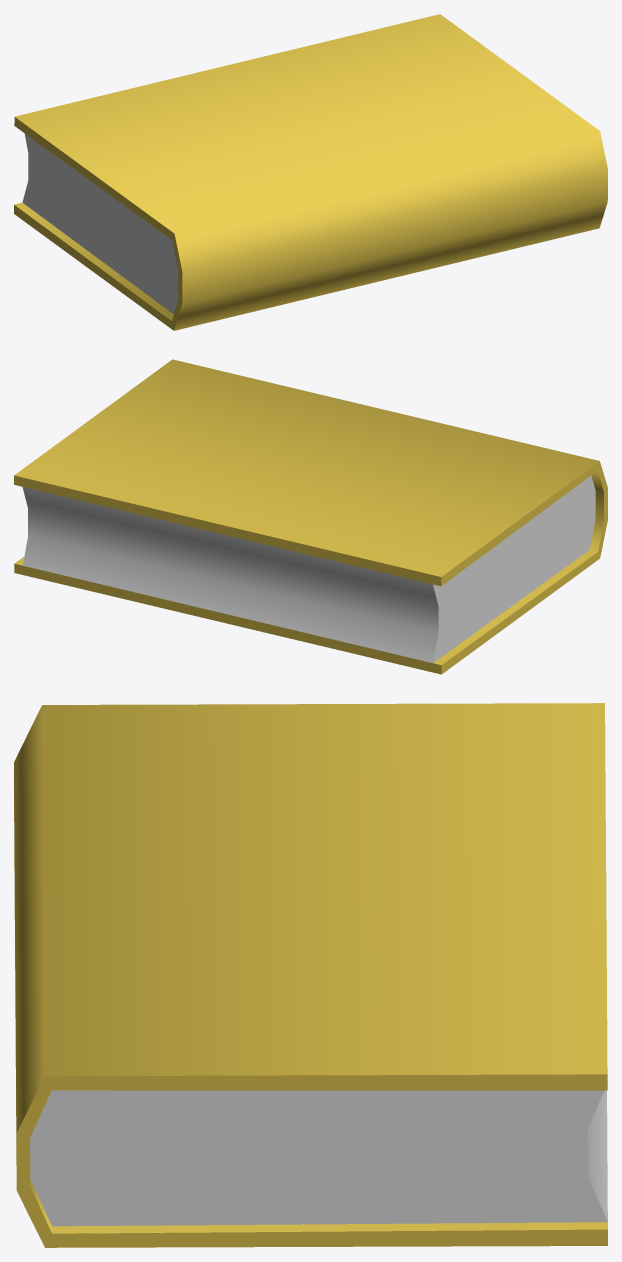
Rendered from book_1_model.fbx.
3 views of the same model, one above another, from view 1: azimuth 30°, elevation 25°; view 2: azimuth 150°, elevation 25°; view 3: azimuth 270°, elevation 25° (orthographic). The views are drawn at different scales.
Parts seen in each view (by area): view 1: Plane.001; view 2: Plane.001; view 3: Plane.001.
Boxes of the visible parts, <box> form: Plane.001: <box>14,14,607,330</box>; Plane.001: <box>14,359,607,674</box>; Plane.001: <box>14,703,607,1247</box>.
Bounding box in the file's own units: 0.2622 × 0.0585 × 0.1784.
